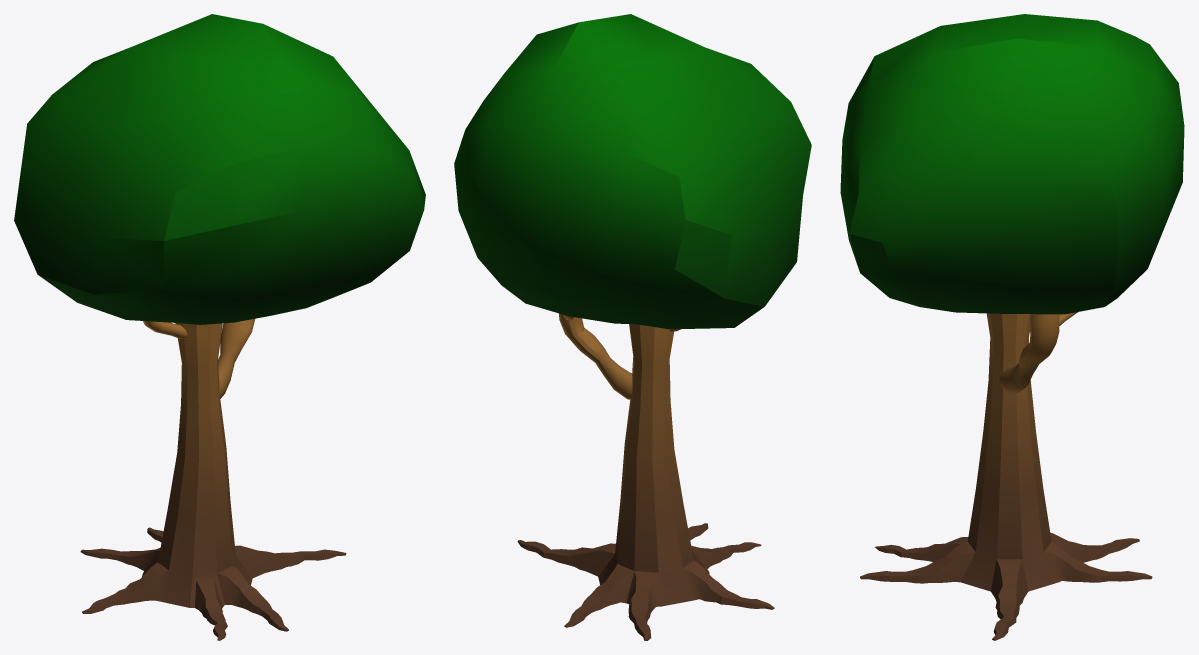
File: Arbol_1_elementosDecorativos_T.fbx
The picture shows the model from 3 angles, left to right: view 1: azimuth 30°, elevation 25°; view 2: azimuth 150°, elevation 25°; view 3: azimuth 270°, elevation 25°; orthographic projection. The views are drawn at different scales.
Parts seen in each view (by area): view 1: Arbol 2; view 2: Arbol 2; view 3: Arbol 2.
Part boxes in pixels (box(x1,y1,x2,y2)): Arbol 2: box(14, 14, 425, 640); Arbol 2: box(454, 14, 811, 640); Arbol 2: box(840, 14, 1184, 640).
Bounding box in the file's own units: 2781 × 4739 × 2610.
